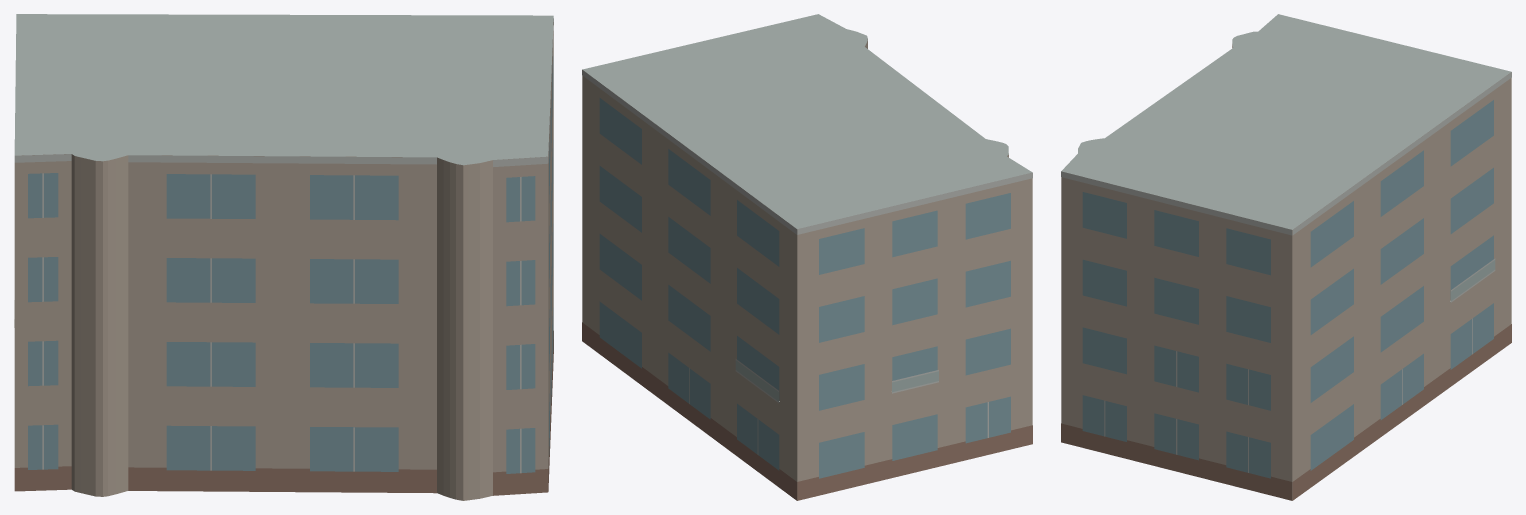
Rendered from survey-upis-32907924.glb.
3 renders of one model, left to right at view 1: azimuth 30°, elevation 25°; view 2: azimuth 150°, elevation 25°; view 3: azimuth 270°, elevation 25°, orthographic. The views are drawn at different scales.
Parts seen in each view (by area): view 1: survey-upis-32907924.tmp; view 2: survey-upis-32907924.tmp; view 3: survey-upis-32907924.tmp.
Part boxes in pixels (x1,y1,x2,y2): survey-upis-32907924.tmp: (14,14,553,500); survey-upis-32907924.tmp: (582,14,1032,500); survey-upis-32907924.tmp: (1061,14,1511,500).
Bounding box in the file's own units: 19.65 × 11.5 × 17.34.
